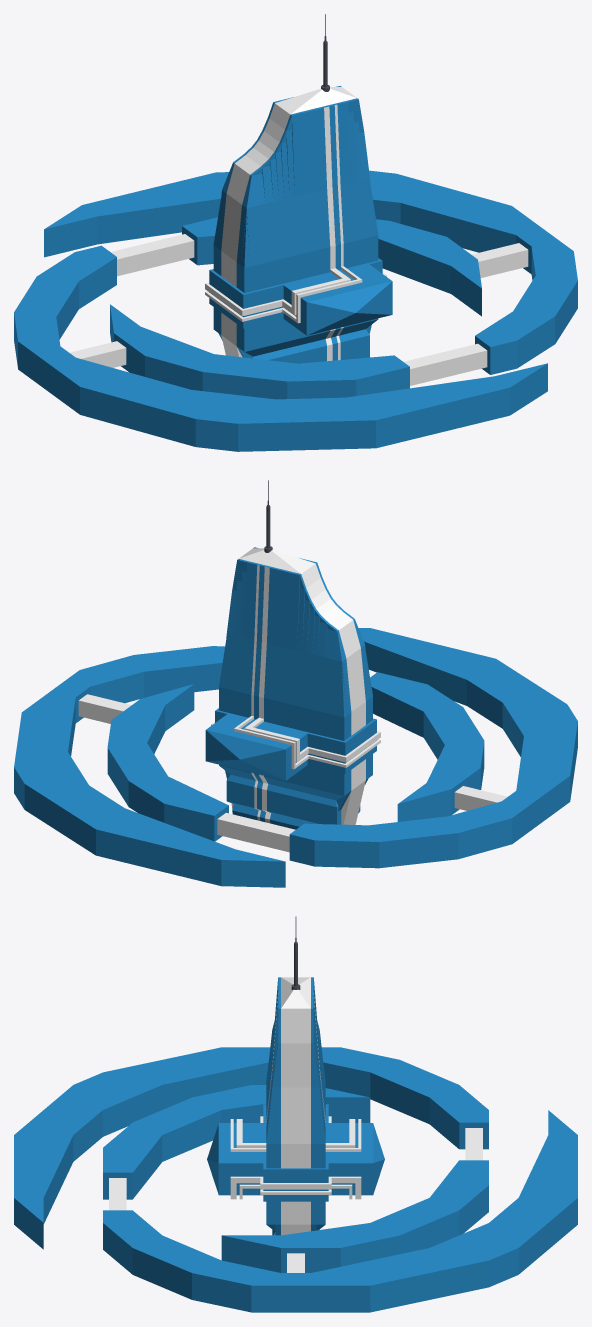
Rendered from Spacestation.fbx.
3 renders of one model, top to bottom at view 1: azimuth 30°, elevation 25°; view 2: azimuth 150°, elevation 25°; view 3: azimuth 270°, elevation 25°, orthographic. The views are drawn at different scales.
Visible parts, largest first — view 1: block_default_51, slope_default_211, slope_default_88, block_default_39, block_default_223, slope_default_60, slope_default_102, slope_default_103, slope_default_194, block_default_32, slope_default_95, slope_default_94 (+51 smaller); view 2: block_default_32, slope_default_214, slope_default_82, block_default_39, block_default_221, slope_default_93, slope_default_89, block_default_15, slope_default_199, slope_default_59, block_default_51, slope_default_90 (+48 smaller); view 3: block_default_26, slope_default_80, slope_default_99, slope_default_107, slope_default_98, slope_default_72, block_default_32, block_default_51, block_default_13, slope_default_82, slope_default_117, slope_default_79 (+53 smaller).
Boxes of the visible parts, x1=… form: block_default_51: x1=361, y1=376, x2=509, y2=448; slope_default_211: x1=254, y1=188, x2=330, y2=264; slope_default_88: x1=97, y1=185, x2=223, y2=244; block_default_39: x1=18, y1=335, x2=106, y2=414; block_default_223: x1=258, y1=247, x2=330, y2=348; slope_default_60: x1=378, y1=232, x2=450, y2=293; slope_default_102: x1=238, y1=410, x2=306, y2=451; slope_default_103: x1=307, y1=409, x2=375, y2=449; slope_default_194: x1=297, y1=108, x2=326, y2=194; block_default_32: x1=82, y1=172, x2=225, y2=216; slope_default_95: x1=137, y1=396, x2=195, y2=446; slope_default_94: x1=80, y1=380, x2=137, y2=430; block_default_32: x1=96, y1=819, x2=234, y2=885; slope_default_214: x1=264, y1=643, x2=334, y2=714; slope_default_82: x1=364, y1=640, x2=480, y2=705; block_default_39: x1=487, y1=769, x2=570, y2=843; block_default_221: x1=264, y1=698, x2=331, y2=792; slope_default_93: x1=314, y1=830, x2=379, y2=868; slope_default_89: x1=221, y1=849, x2=285, y2=887; block_default_15: x1=164, y1=793, x2=228, y2=841; slope_default_199: x1=267, y1=568, x2=294, y2=649; slope_default_59: x1=371, y1=685, x2=437, y2=737; block_default_51: x1=361, y1=628, x2=495, y2=669; slope_default_90: x1=458, y1=812, x2=512, y2=859; block_default_26: x1=251, y1=1273, x2=370, y2=1312; slope_default_80: x1=103, y1=1085, x2=162, y2=1136; slope_default_99: x1=429, y1=1260, x2=488, y2=1299; slope_default_107: x1=192, y1=1273, x2=251, y2=1312; slope_default_98: x1=370, y1=1273, x2=429, y2=1312; slope_default_72: x1=221, y1=1235, x2=280, y2=1272; block_default_32: x1=548, y1=1135, x2=577, y2=1197; block_default_51: x1=14, y1=1135, x2=43, y2=1197; block_default_13: x1=281, y1=1235, x2=340, y2=1272; slope_default_82: x1=43, y1=1135, x2=73, y2=1223; slope_default_117: x1=281, y1=1087, x2=310, y2=1143; slope_default_79: x1=162, y1=1072, x2=221, y2=1109.
Bounding box in the file's own units: 190 × 136 × 190.
